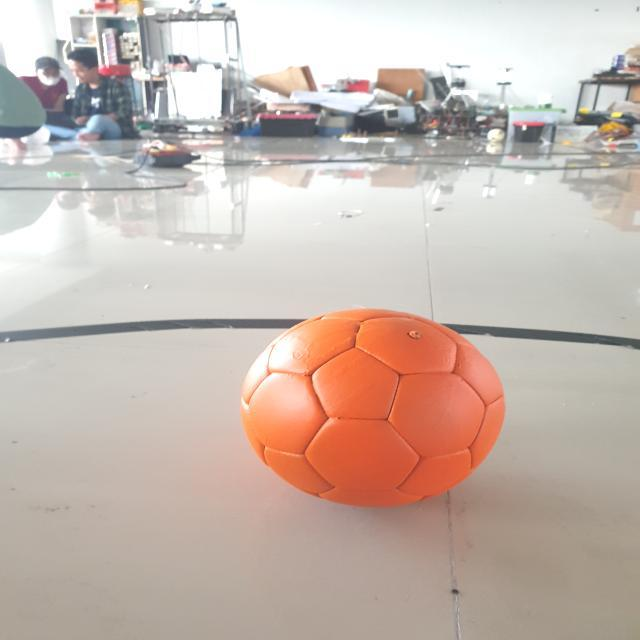bola: (232, 302, 513, 520)
